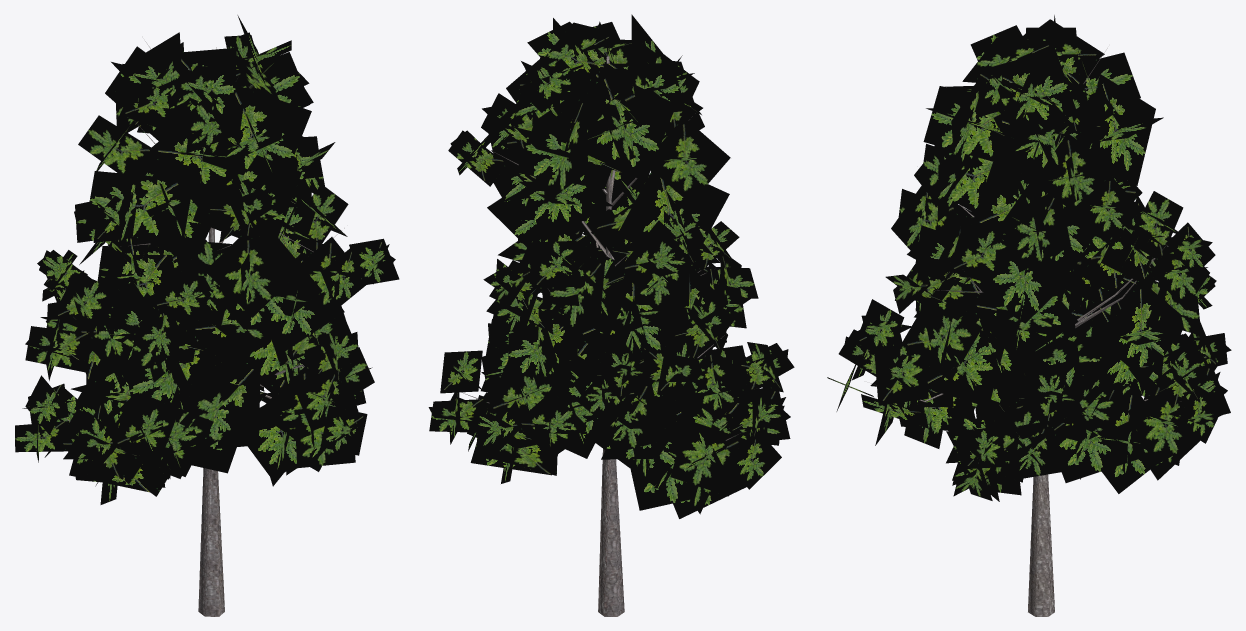
Rendered from tree1_LOD1.fbx.
The picture shows the model from 3 angles, left to right: view 1: azimuth 30°, elevation 25°; view 2: azimuth 150°, elevation 25°; view 3: azimuth 270°, elevation 25°; orthographic projection.
Parts seen in each view (by area): view 1: branch04_2, bark03_0; view 2: branch04_2, bark03_0; view 3: branch04_2, bark03_0.
Part boxes in pixels (x1,y1,x2,y2): branch04_2: (15,15,399,504); bark03_0: (64,41,344,616); branch04_2: (428,14,794,518); bark03_0: (462,51,742,616); branch04_2: (827,15,1231,501); bark03_0: (868,48,1207,616).
Size of the model in its own units: 586 by 1060 by 673.
